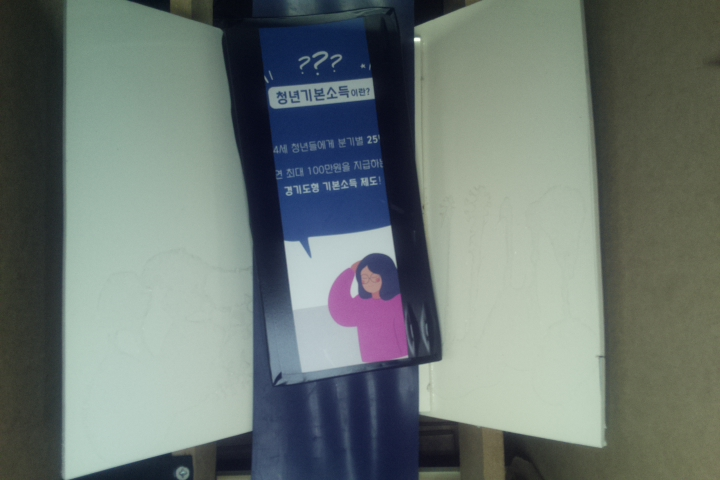book: (223, 1, 447, 388)
